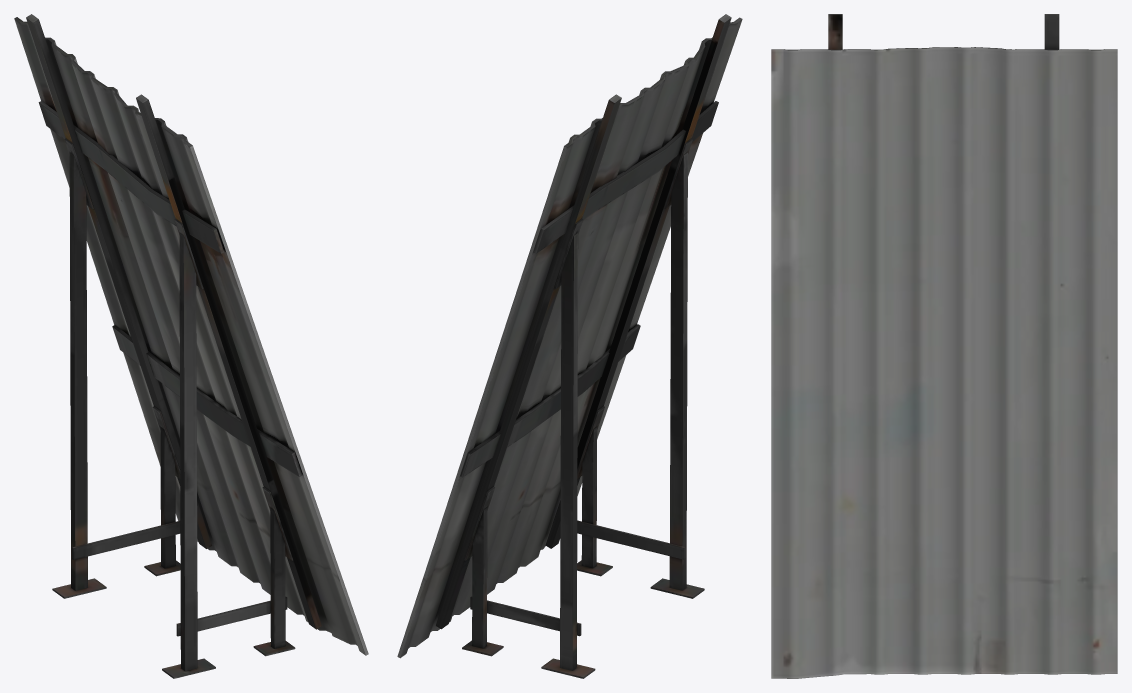
3 views of the same model, side by side, from view 1: azimuth 30°, elevation 25°; view 2: azimuth 150°, elevation 25°; view 3: azimuth 270°, elevation 25° (orthographic).
Parts seen in each view (by area): view 1: body0_model0_lod0_mesh0; view 2: body0_model0_lod0_mesh0; view 3: body0_model0_lod0_mesh0.
Part boxes in pixels (left/top/right/bottom): body0_model0_lod0_mesh0: left=14, top=14, right=368, bottom=678; body0_model0_lod0_mesh0: left=397, top=14, right=742, bottom=678; body0_model0_lod0_mesh0: left=771, top=14, right=1117, bottom=678.
Bounding box in the file's own units: 63 × 176 × 96.01.
1 material, 1 textured.
